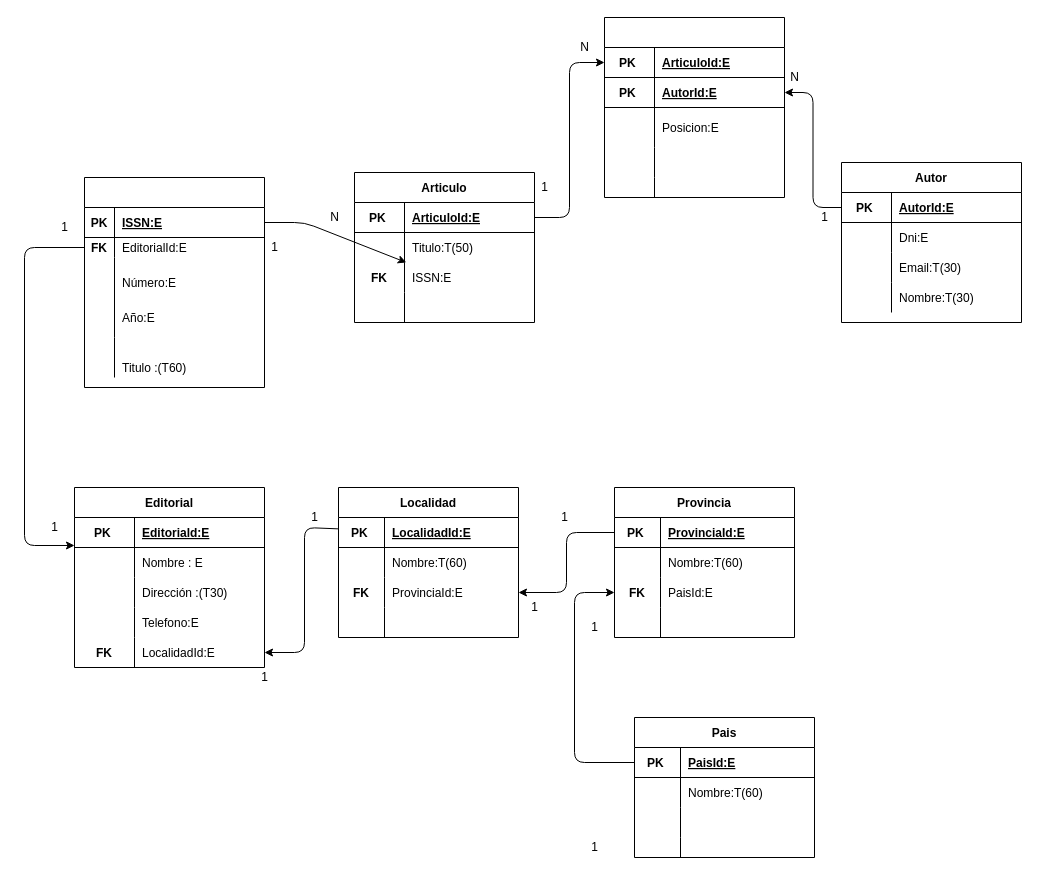
Some shapes in this 1039 by 875 pixel diagram are drawn without their labels. The shapes that lost their labels are listed below. From the top down, each one's box as (x1, y1, x2, y2) in pixels, then its label:
(604, 16, 784, 198): articulo_autor
(84, 176, 264, 388): Revista
